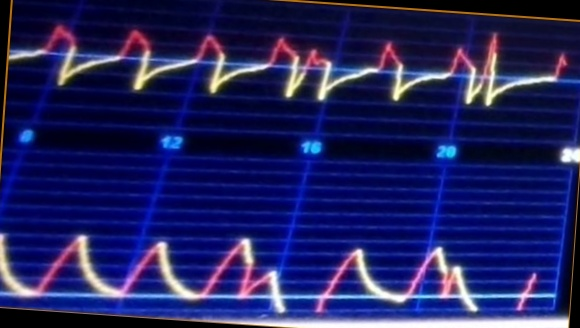Double_Triggering Flow: (99, 29, 566, 114)
Double_Triggering Volume: (31, 227, 480, 315)
